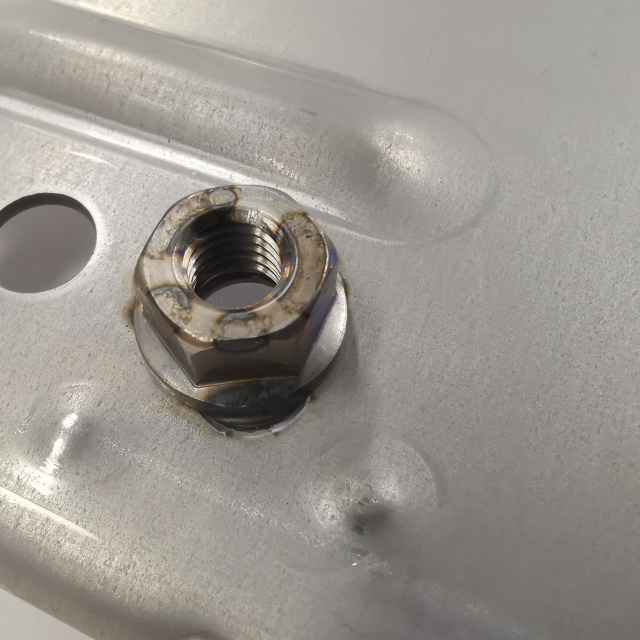dog: (121, 175, 356, 442)
